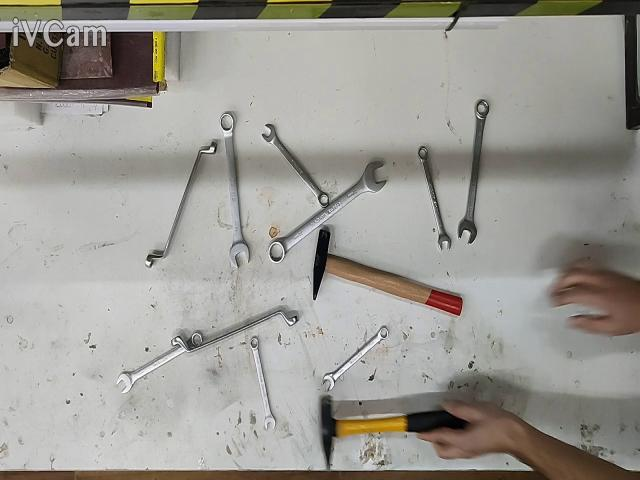Hammer: (312, 228, 462, 317), (321, 397, 467, 465)
Hand: (420, 402, 640, 479), (551, 267, 640, 335)
Wrench: (269, 162, 385, 263), (145, 140, 218, 268), (171, 310, 299, 353), (262, 125, 329, 207), (116, 331, 203, 392), (220, 112, 250, 270), (458, 100, 489, 243), (322, 327, 389, 392), (418, 147, 451, 249), (250, 337, 276, 430)
